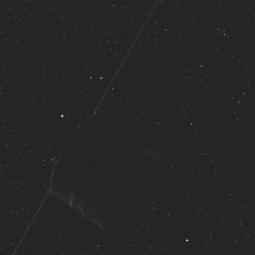double_start: (39, 116, 143, 237)
